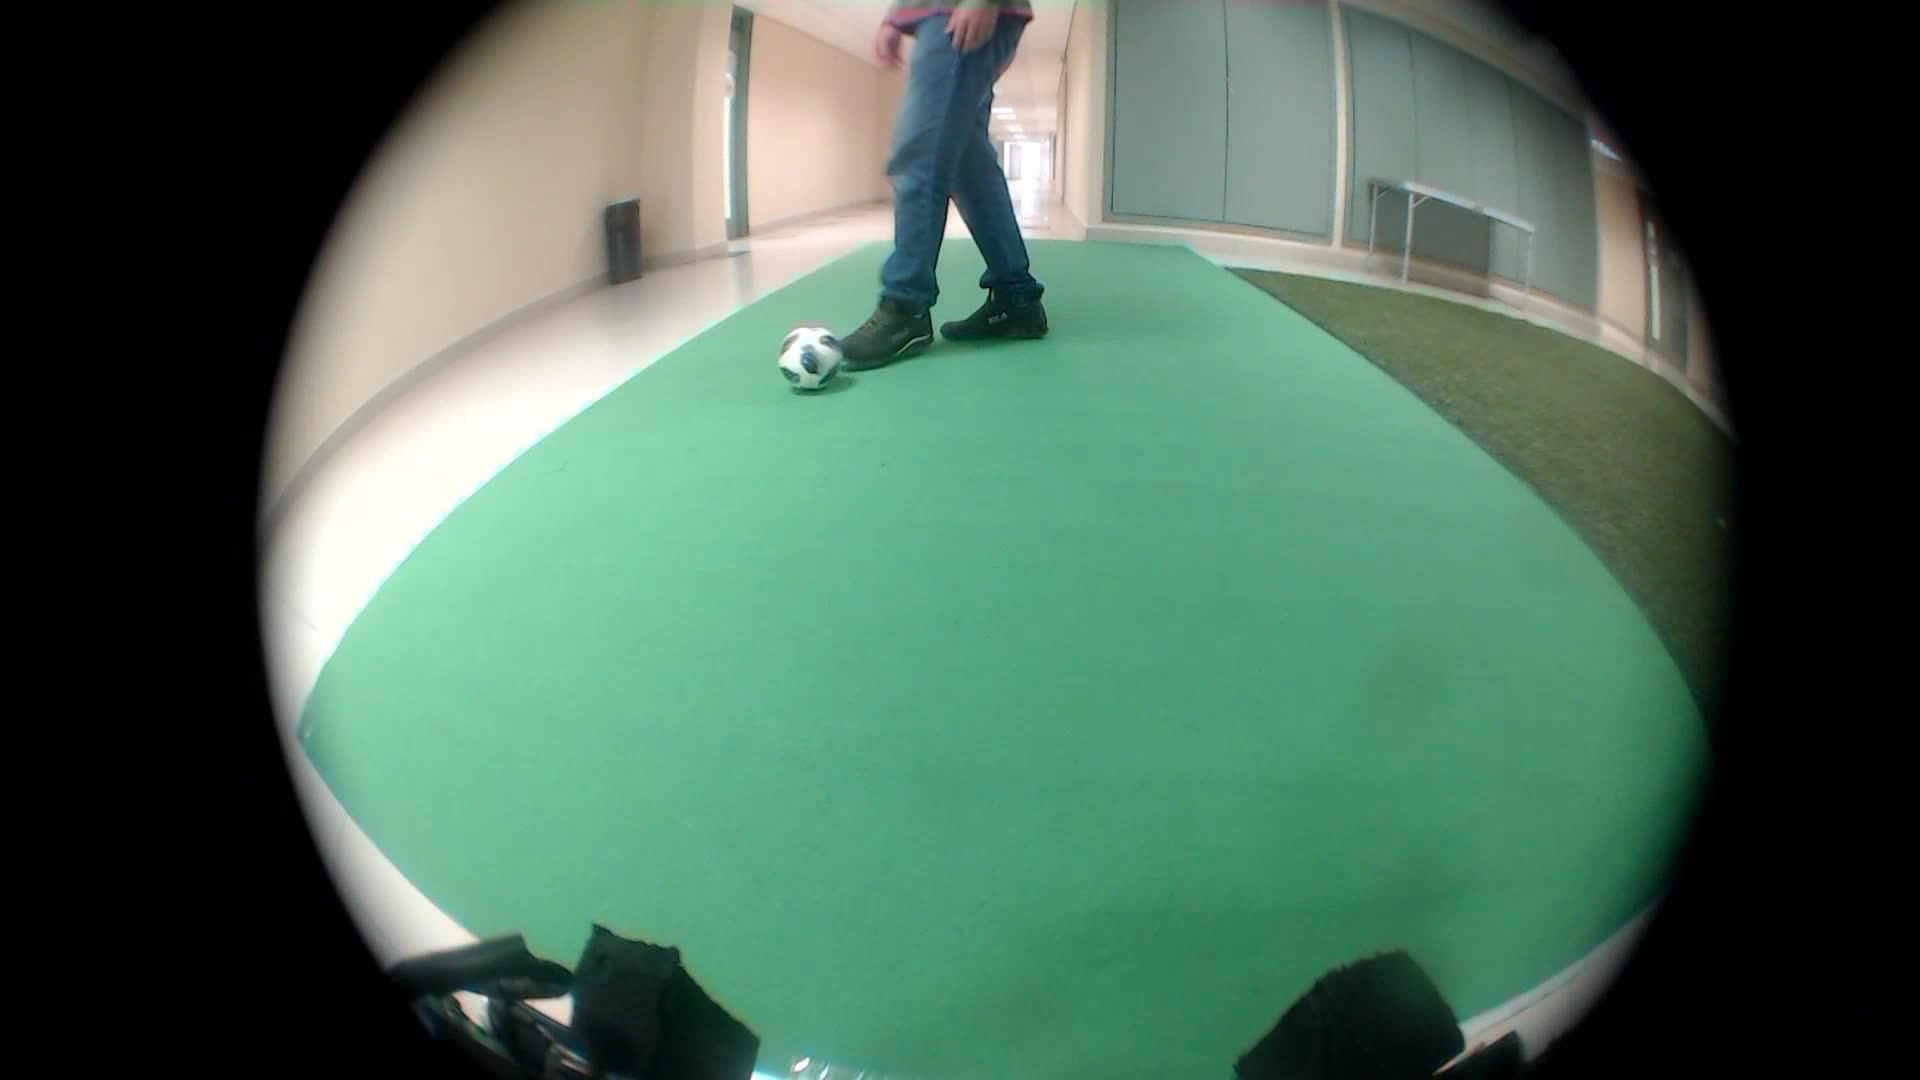ball: (771, 319, 843, 402)
